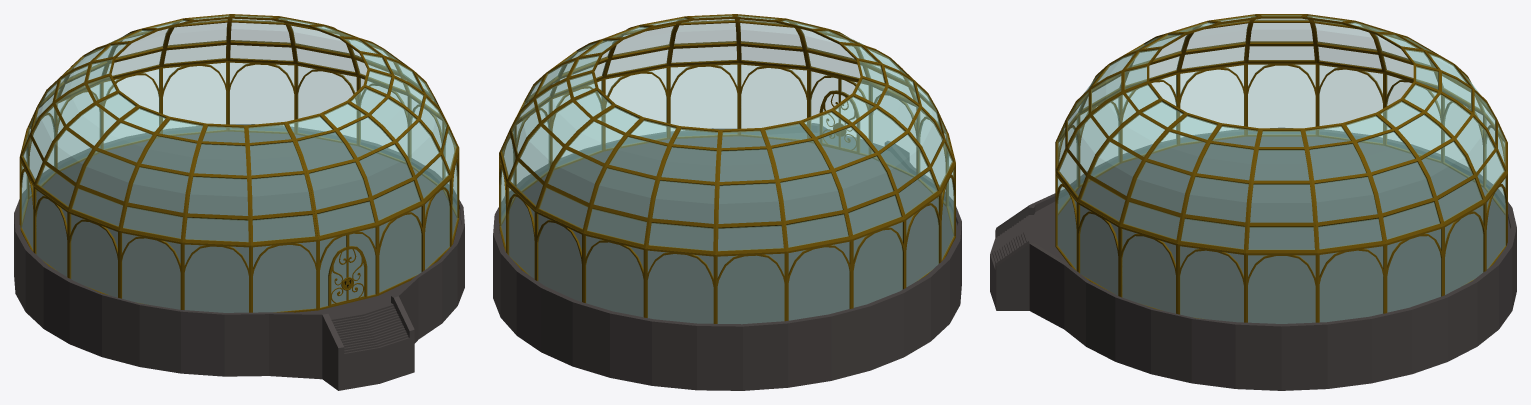
File: Greenhouse.fbx
The picture shows the model from 3 angles, left to right: view 1: azimuth 30°, elevation 25°; view 2: azimuth 150°, elevation 25°; view 3: azimuth 270°, elevation 25°; orthographic projection. The views are drawn at different scales.
Parts seen in each view (by area): view 1: SmallGreenhouse2:Base, SmallGreenhouse2:SmallGreenhouse:SmallGreenhouse_RoofPanel_G, SmallGreenhouse2:SmallGreenhouse:GreenhouseWall_GRP5_SmallGr, SmallGreenhouse2:SmallGreenhouse:SmallGreenhouse_RoofPanel_R, SmallGreenhouse2:SmallGreenhouse:Rims, SmallGreenhouse2:Stairs, SmallGreenhouse2:SmallGreenhouse:Left_DoorGlass, SmallGreenhouse2:SmallGreenhouse:Right_DoorGlass, SmallGreenhouse2:SmallGreenhouse:Right_Door; view 2: SmallGreenhouse2:Base, SmallGreenhouse2:SmallGreenhouse:SmallGreenhouse_RoofPanel_G, SmallGreenhouse2:SmallGreenhouse:GreenhouseWall_GRP5_SmallGr, SmallGreenhouse2:SmallGreenhouse:SmallGreenhouse_RoofPanel_R, SmallGreenhouse2:SmallGreenhouse:Rims, SmallGreenhouse2:SmallGreenhouse:Right_DoorGlass, SmallGreenhouse2:SmallGreenhouse:Right_Door, SmallGreenhouse2:SmallGreenhouse:Left_DoorGlass; view 3: SmallGreenhouse2:Base, SmallGreenhouse2:SmallGreenhouse:SmallGreenhouse_RoofPanel_G, SmallGreenhouse2:SmallGreenhouse:GreenhouseWall_GRP5_SmallGr, SmallGreenhouse2:SmallGreenhouse:SmallGreenhouse_RoofPanel_R, SmallGreenhouse2:SmallGreenhouse:Rims, SmallGreenhouse2:Stairs.
Part boxes in pixels (x1=…): SmallGreenhouse2:Base: x1=14, y1=124, x2=464, y2=390; SmallGreenhouse2:SmallGreenhouse:SmallGreenhouse_RoofPanel_G: x1=22, y1=15, x2=456, y2=241; SmallGreenhouse2:SmallGreenhouse:GreenhouseWall_GRP5_SmallGr: x1=21, y1=63, x2=457, y2=312; SmallGreenhouse2:SmallGreenhouse:SmallGreenhouse_RoofPanel_R: x1=20, y1=14, x2=458, y2=245; SmallGreenhouse2:SmallGreenhouse:Rims: x1=19, y1=61, x2=459, y2=312; SmallGreenhouse2:Stairs: x1=331, y1=304, x2=408, y2=353; SmallGreenhouse2:SmallGreenhouse:Left_DoorGlass: x1=331, y1=250, x2=346, y2=303; SmallGreenhouse2:SmallGreenhouse:Right_DoorGlass: x1=349, y1=249, x2=363, y2=299; SmallGreenhouse2:SmallGreenhouse:Right_Door: x1=341, y1=248, x2=365, y2=301; SmallGreenhouse2:Base: x1=493, y1=123, x2=961, y2=390; SmallGreenhouse2:SmallGreenhouse:SmallGreenhouse_RoofPanel_G: x1=502, y1=15, x2=952, y2=250; SmallGreenhouse2:SmallGreenhouse:GreenhouseWall_GRP5_SmallGr: x1=501, y1=65, x2=953, y2=323; SmallGreenhouse2:SmallGreenhouse:SmallGreenhouse_RoofPanel_R: x1=499, y1=14, x2=955, y2=254; SmallGreenhouse2:SmallGreenhouse:Rims: x1=499, y1=63, x2=955, y2=323; SmallGreenhouse2:SmallGreenhouse:Right_DoorGlass: x1=822, y1=94, x2=838, y2=146; SmallGreenhouse2:SmallGreenhouse:Right_Door: x1=821, y1=93, x2=846, y2=147; SmallGreenhouse2:SmallGreenhouse:Left_DoorGlass: x1=841, y1=95, x2=856, y2=150; SmallGreenhouse2:Base: x1=990, y1=127, x2=1516, y2=390; SmallGreenhouse2:SmallGreenhouse:SmallGreenhouse_RoofPanel_G: x1=1057, y1=15, x2=1505, y2=249; SmallGreenhouse2:SmallGreenhouse:GreenhouseWall_GRP5_SmallGr: x1=1057, y1=65, x2=1505, y2=323; SmallGreenhouse2:SmallGreenhouse:SmallGreenhouse_RoofPanel_R: x1=1055, y1=14, x2=1507, y2=253; SmallGreenhouse2:SmallGreenhouse:Rims: x1=1055, y1=63, x2=1507, y2=322; SmallGreenhouse2:Stairs: x1=990, y1=216, x2=1027, y2=269.
Bounding box in the file's own units: 2725 × 1399 × 3051.
